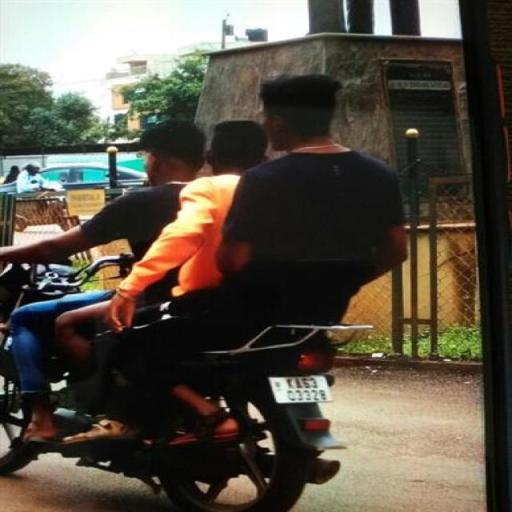tripple riding: (54, 72, 419, 322)
